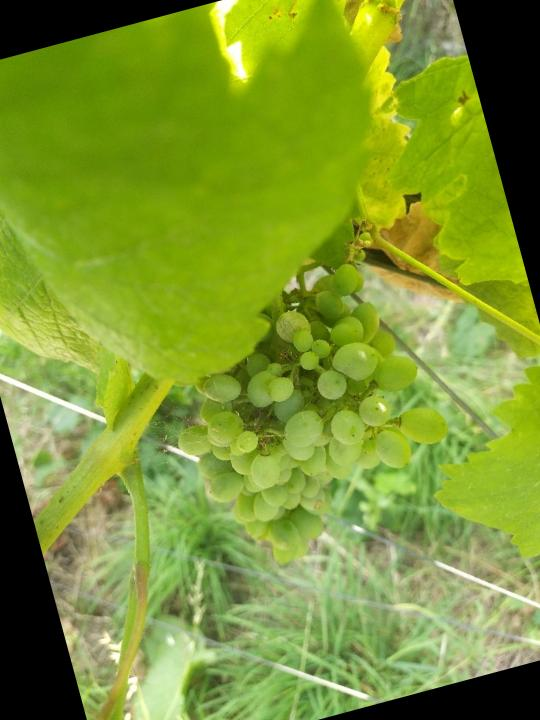grape: (128, 210, 477, 592)
